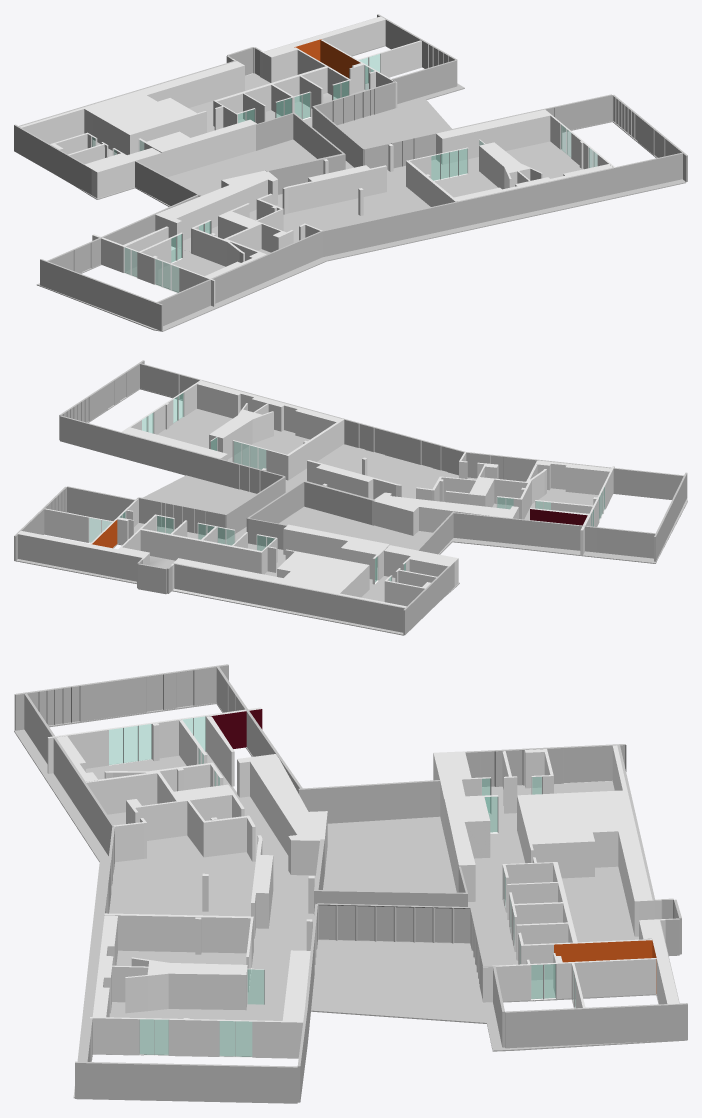
The model's file is 3rdFLR.fbx.
3 views of the same model, one above another, from view 1: azimuth 30°, elevation 25°; view 2: azimuth 150°, elevation 25°; view 3: azimuth 270°, elevation 25° (orthographic). The views are drawn at different scales.
Visible parts, largest first — view 1: Inside, ExteriorWalls, 3rdFloor; view 2: ExteriorWalls, Inside, 3rdFloor; view 3: Inside, 3rdFloor, ExteriorWalls.
Boxes of the visible parts, x1,y1,x2,y2 form: Inside: (20,16,615,306); ExteriorWalls: (14,14,687,331); 3rdFloor: (36,45,686,331); ExteriorWalls: (14,360,687,635); Inside: (18,379,614,607); 3rdFloor: (16,388,687,635); Inside: (47,707,679,1058); 3rdFloor: (14,702,684,1098); ExteriorWalls: (14,664,687,1103).
Bounding box in the file's own units: 6699 × 309 × 4718.
